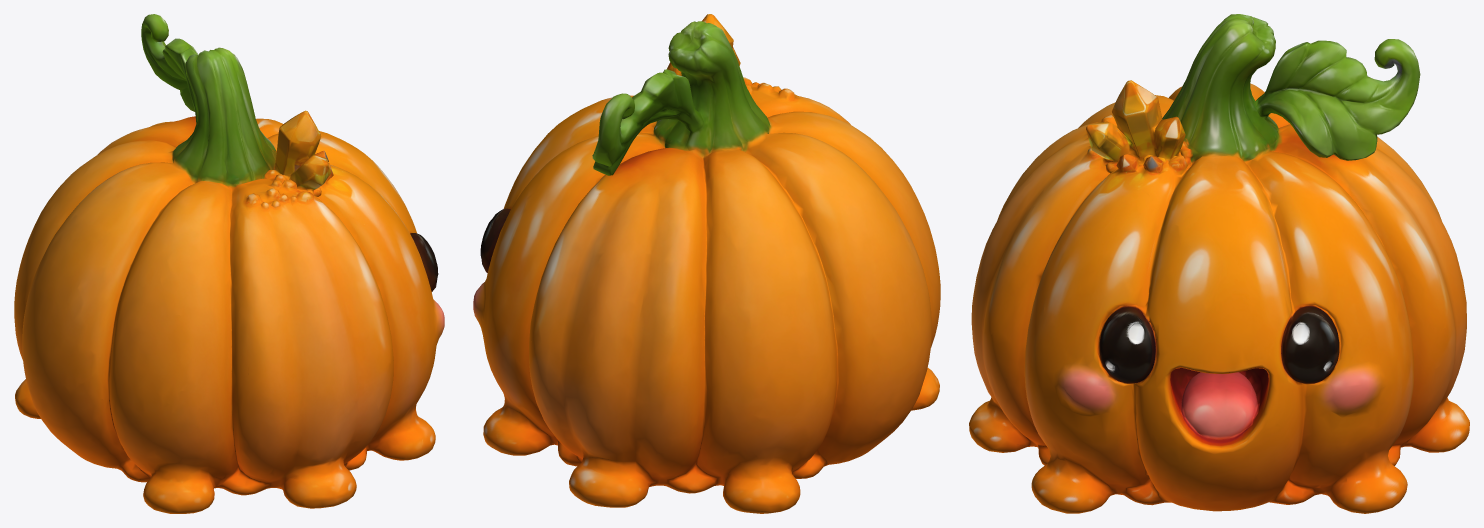
File: MonsterPumpkinSlime_raw.glb
The picture shows the model from 3 angles, left to right: view 1: azimuth 30°, elevation 25°; view 2: azimuth 150°, elevation 25°; view 3: azimuth 270°, elevation 25°; orthographic projection. The views are drawn at different scales.
Visible parts, largest first — view 1: tripo_node_04809327-9d1d-411f-824b-87f8aa988ca2; view 2: tripo_node_04809327-9d1d-411f-824b-87f8aa988ca2; view 3: tripo_node_04809327-9d1d-411f-824b-87f8aa988ca2.
Part boxes in pixels (x1,y1,x2,y2): tripo_node_04809327-9d1d-411f-824b-87f8aa988ca2: (14,14,444,513); tripo_node_04809327-9d1d-411f-824b-87f8aa988ca2: (473,14,940,513); tripo_node_04809327-9d1d-411f-824b-87f8aa988ca2: (969,14,1469,513).
Bounding box in the file's own units: 0.9744 × 0.9301 × 1.
1 material, 1 textured.
